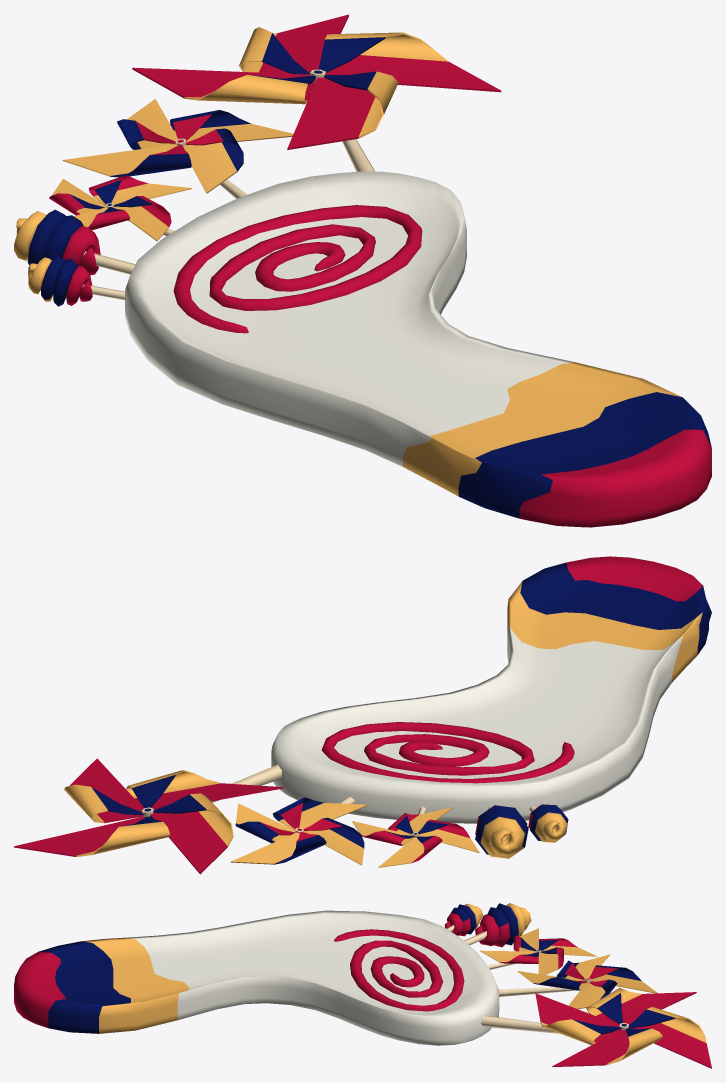
File: Super_Huella.fbx
The picture shows the model from 3 angles, top to bottom: view 1: azimuth 30°, elevation 25°; view 2: azimuth 150°, elevation 25°; view 3: azimuth 270°, elevation 25°; orthographic projection. The views are drawn at different scales.
Visible parts, largest first — view 1: Super_Huella; view 2: Super_Huella; view 3: Super_Huella.
Boxes of the visible parts, x1=… form: Super_Huella: x1=14, y1=14, x2=711, y2=527; Super_Huella: x1=14, y1=556, x2=711, y2=874; Super_Huella: x1=14, y1=903, x2=711, y2=1068.
Bounding box in the file's own units: 0.7952 × 0.0922 × 1.45.
